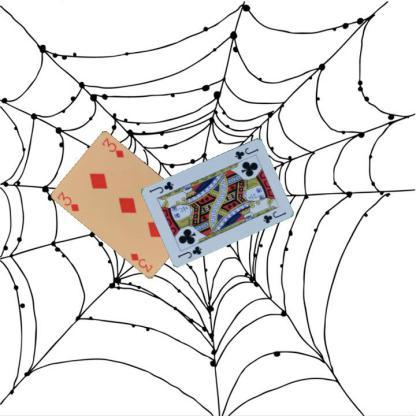3d: (55, 190, 81, 212)
Jc: (232, 144, 260, 160), (175, 244, 203, 260)
